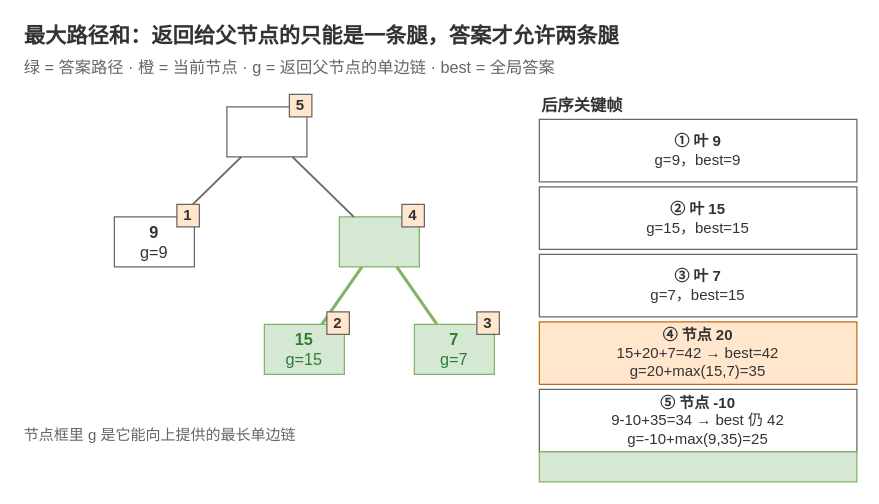
The diagram is 879 pixels wide and 504 high, and some of its shapes have lost their labels. Here are the shapes that lost their labels. From the top down, the centre of each, then its label:
At (266,131): "-10 g=25".
At (378,241): "20 g=35".
At (697,466): "答案路径 15 → 20 → 7 = 42".
